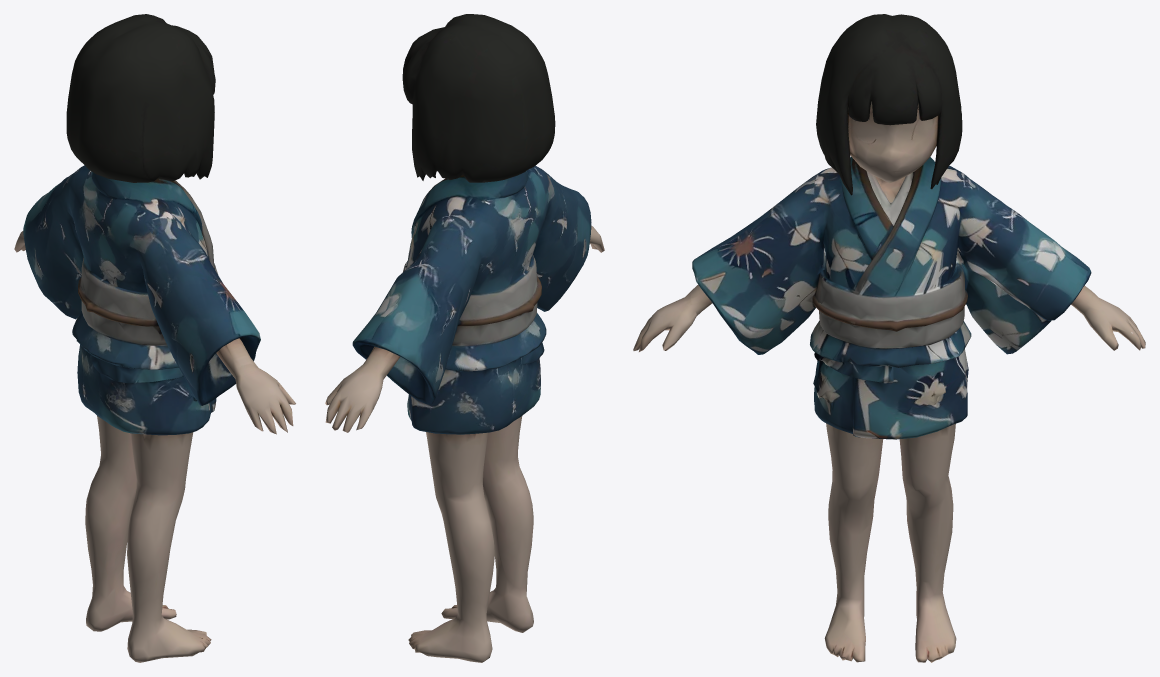
File: yokai-kodomo.glb
3 views of the same model, side by side, from view 1: azimuth 30°, elevation 25°; view 2: azimuth 150°, elevation 25°; view 3: azimuth 270°, elevation 25° (orthographic).
Visible parts, largest first — view 1: tripo_node_44bab0aa-f73a-4a19-b2ca-4247df1f4131; view 2: tripo_node_44bab0aa-f73a-4a19-b2ca-4247df1f4131; view 3: tripo_node_44bab0aa-f73a-4a19-b2ca-4247df1f4131.
Boxes of the visible parts, box(x1,y1,x2,y2) form: tripo_node_44bab0aa-f73a-4a19-b2ca-4247df1f4131: box(14, 14, 295, 662); tripo_node_44bab0aa-f73a-4a19-b2ca-4247df1f4131: box(325, 14, 604, 662); tripo_node_44bab0aa-f73a-4a19-b2ca-4247df1f4131: box(633, 14, 1145, 662).
Size of the model in its own units: 0.2328 by 1 by 0.7481.
1 material, 1 textured.
